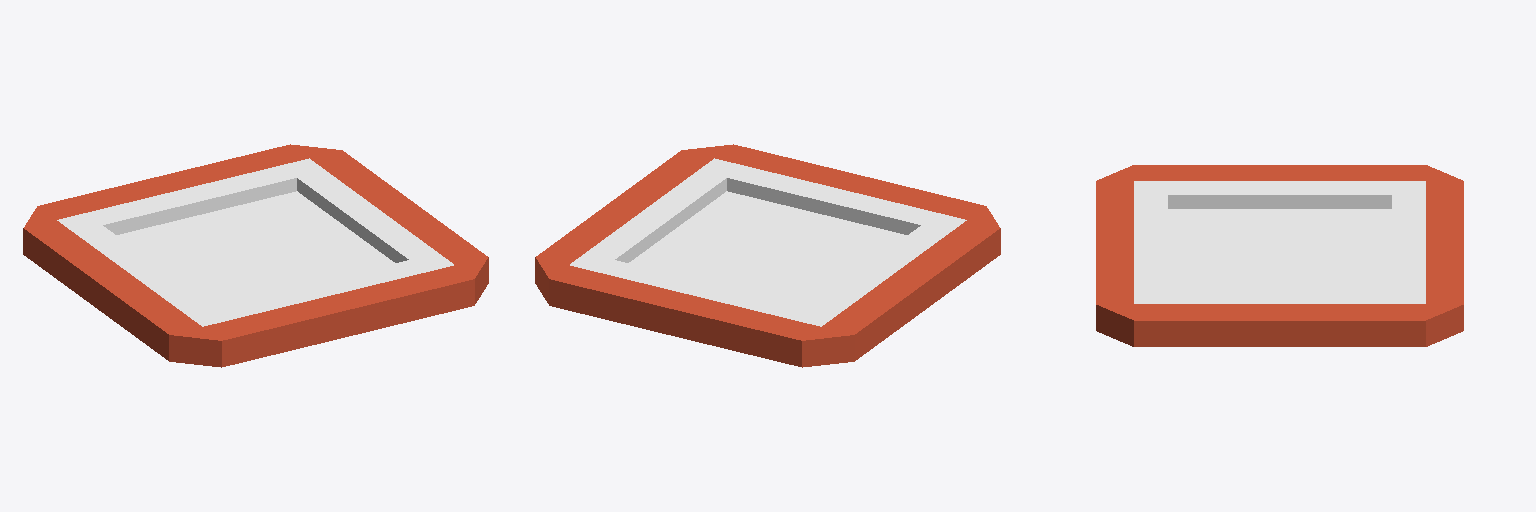
Rendered from metalTileSmall.obj.
The picture shows the model from 3 angles: view 1: azimuth 30°, elevation 25°; view 2: azimuth 150°, elevation 25°; view 3: azimuth 270°, elevation 25°; orthographic projection.
Parts seen in each view (by area): view 1: metalTileSmall; view 2: metalTileSmall; view 3: metalTileSmall.
Boxes of the visible parts, box(x1,y1,x2,y2) form: metalTileSmall: box(23, 144, 488, 367); metalTileSmall: box(535, 144, 1000, 367); metalTileSmall: box(1096, 165, 1463, 346).
Size of the model in its own units: 5 by 0.4 by 5.